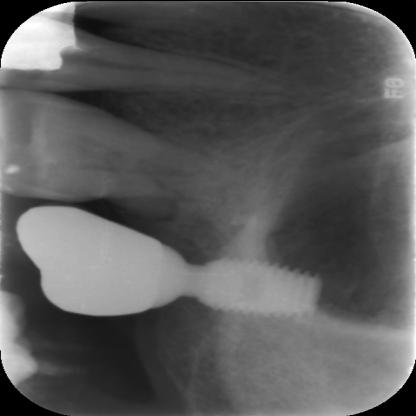Bicon: (189, 254, 329, 320)
